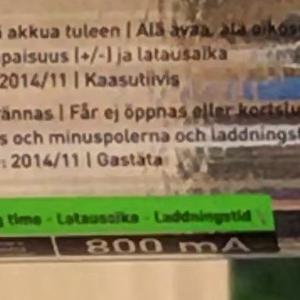ALK: (178, 36, 222, 71)
